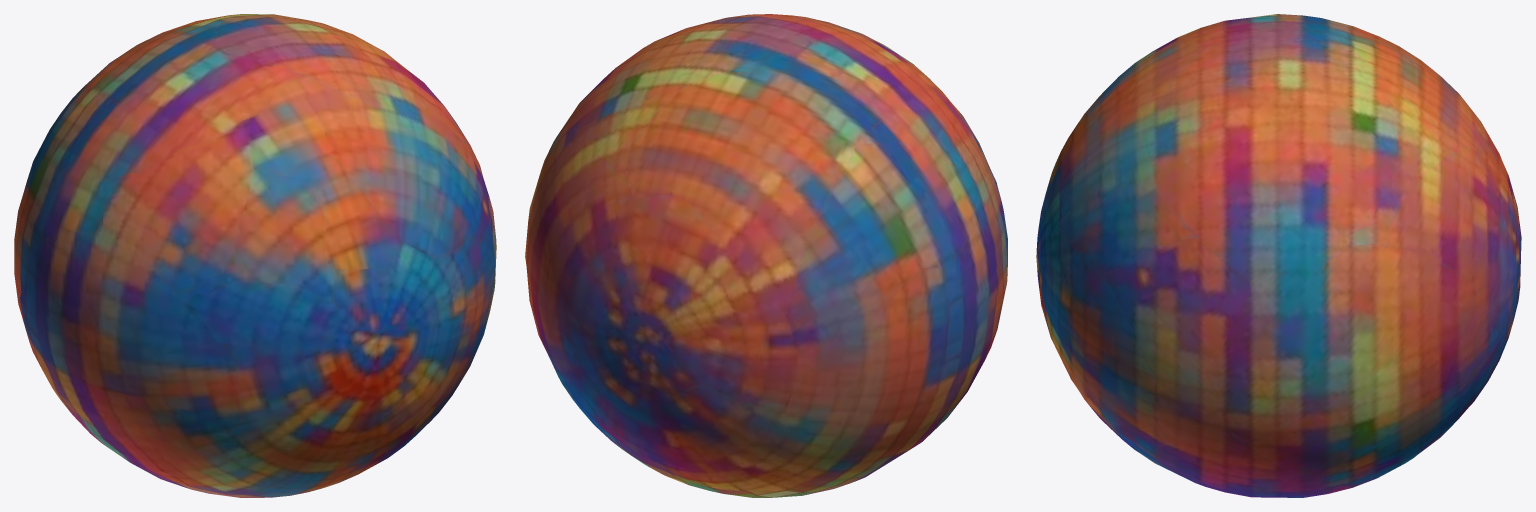
3 renders of one model, left to right at view 1: azimuth 30°, elevation 25°; view 2: azimuth 150°, elevation 25°; view 3: azimuth 270°, elevation 25°, orthographic.
Visible parts, largest first — view 1: material; view 2: material; view 3: material.
Boxes of the visible parts, x1=… form: material: x1=14, y1=14, x2=496, y2=497; material: x1=525, y1=14, x2=1007, y2=497; material: x1=1036, y1=14, x2=1521, y2=497.
Size of the model in its own units: 0.9994 by 0.9985 by 1.
Materials: 1 (1 with a texture image).
